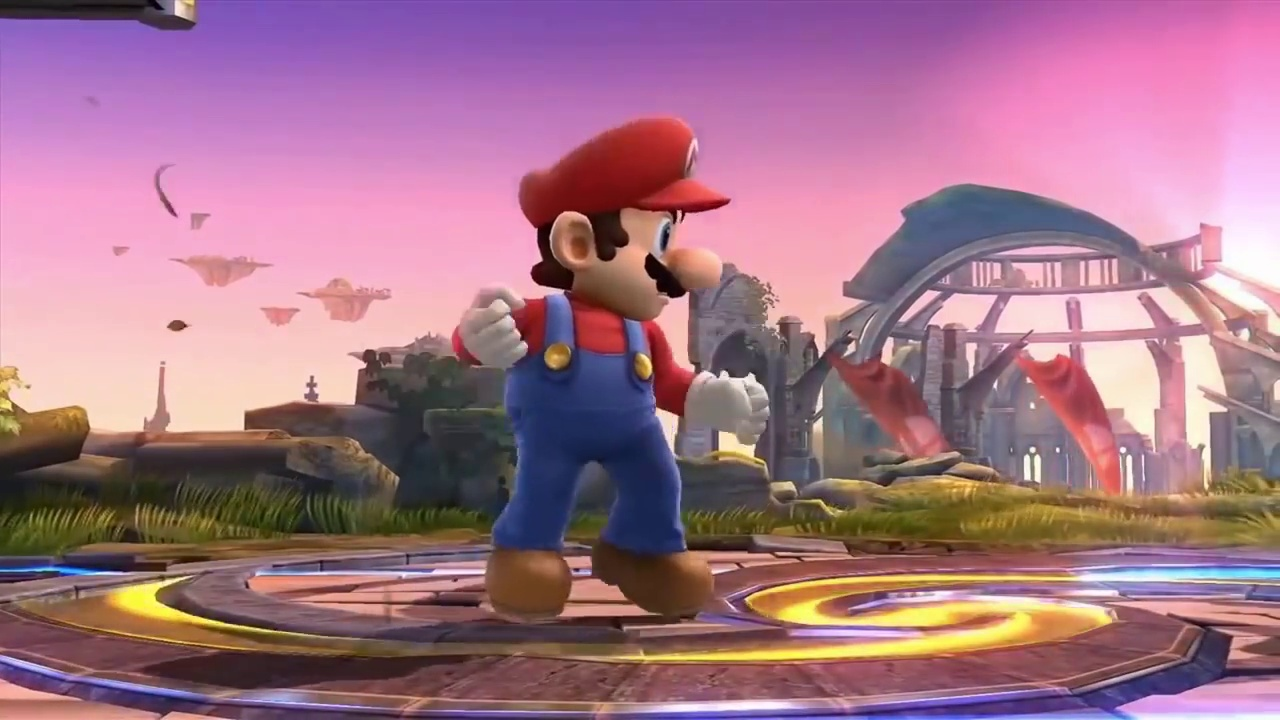Mario: (450, 113, 772, 621)
